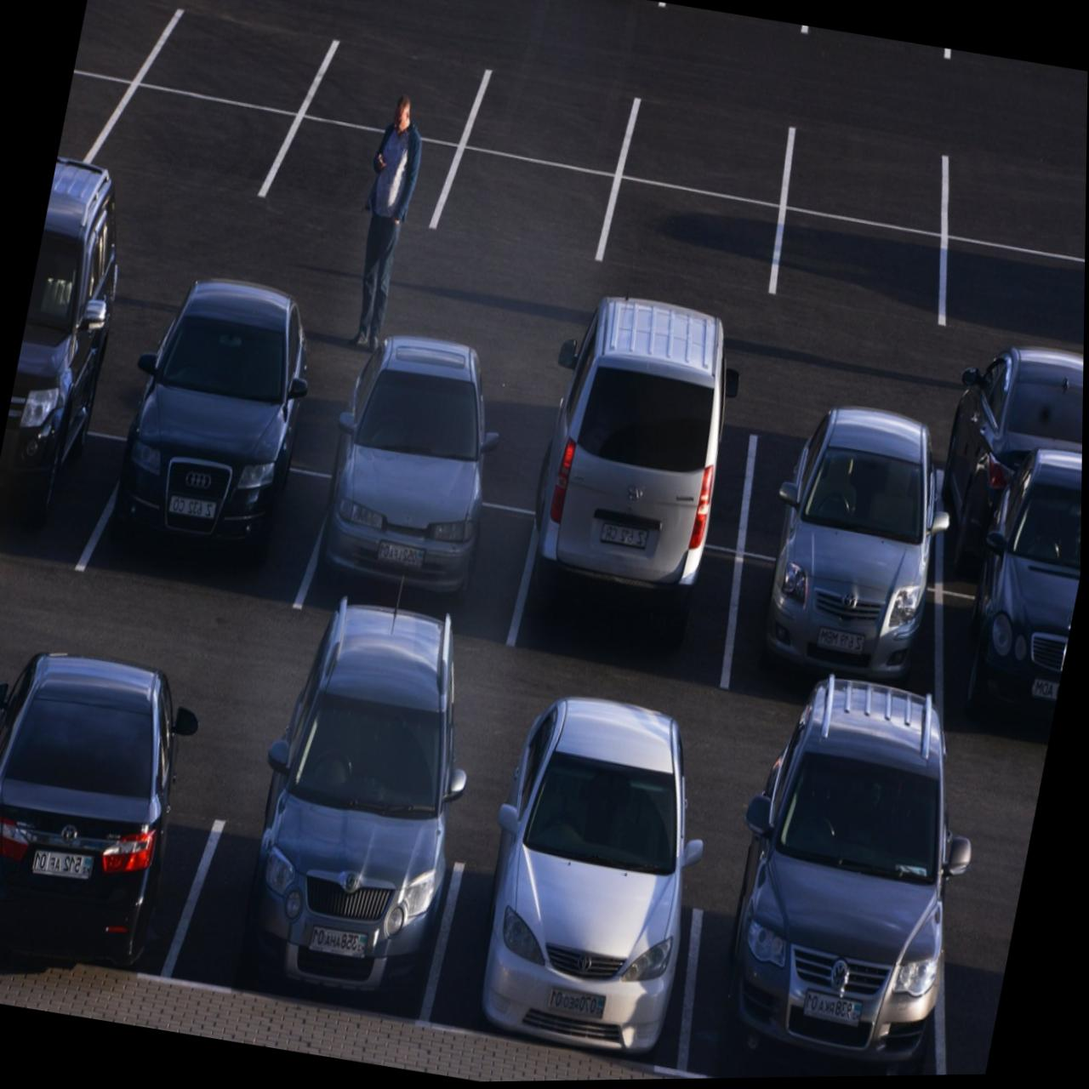cars: (189, 755, 475, 1049), (435, 814, 706, 1082), (665, 866, 971, 1079), (0, 744, 217, 1001), (518, 514, 756, 693), (714, 560, 955, 722), (113, 420, 319, 609), (322, 471, 530, 636), (0, 397, 134, 550), (928, 479, 1082, 611), (936, 600, 1072, 746)
empty: (547, 417, 758, 563), (369, 362, 568, 514), (737, 436, 936, 579), (176, 319, 360, 468), (110, 89, 279, 209), (276, 121, 437, 244), (317, 34, 478, 152), (154, 13, 321, 124), (13, 296, 167, 415), (774, 208, 944, 309), (445, 148, 606, 254), (608, 182, 781, 279), (468, 66, 625, 164), (795, 128, 945, 225), (626, 106, 777, 192), (952, 244, 1085, 341), (955, 160, 1086, 257)
